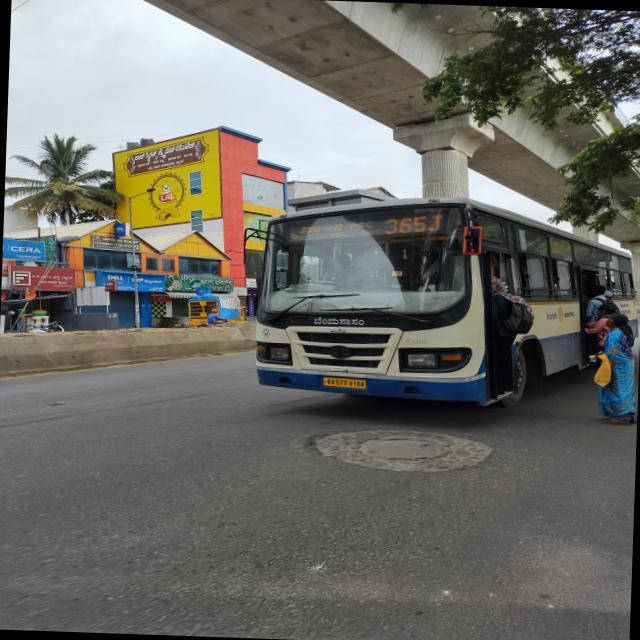bus: (215, 185, 640, 432)
display: (287, 208, 453, 242)
dnumber: (384, 214, 444, 236)
